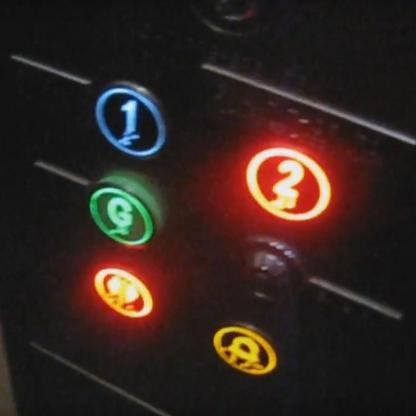1: (94, 80, 169, 159)
2: (244, 142, 332, 223)
G: (86, 173, 163, 250)
alarm: (209, 317, 282, 378)
blur: (231, 235, 305, 305)
open: (91, 261, 155, 319)
